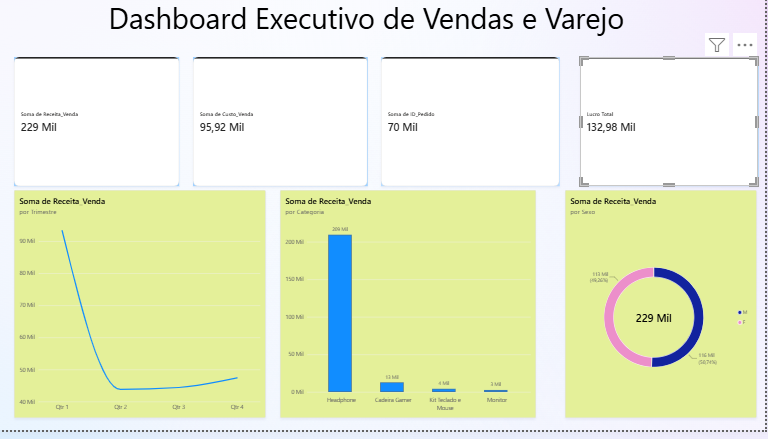

This screenshot's page, from the dashboard's own definition file:
{"tool":"powerbi","page":{"name":"Página 1","canvas":[1920,1080],"ordinal":0},"visuals":[{"type":"cardVisual","fields":{"Data":["Sum(banco pedidos.Receita_Venda)"]},"box":[43.3,146.7,413.3,323.3],"z":0},{"type":"columnChart","fields":{"Category":["banco categorias.Categoria"],"Y":["Sum(banco pedidos.Receita_Venda)"]},"box":[708,480,640,570],"z":1000},{"type":"lineChart","fields":{"Category":["banco pedidos.Data_Venda.Variation.Hierarquia de datas.Ano","banco pedidos.Data_Venda.Variation.Hierarquia de datas.Trimestre","banco pedidos.Data_Venda.Variation.Hierarquia de datas.Mês","banco pedidos.Data_Venda.Variation.Hierarquia de datas.Dia"],"Y":["Sum(banco pedidos.Receita_Venda)"]},"box":[43,480,629,570],"z":1001},{"type":"cardVisual","fields":{"Data":["Sum(banco pedidos.Custo_Venda)"]},"box":[490,146.7,436.7,323.3],"z":1002},{"type":"cardVisual","fields":{"Data":["Sum(banco pedidos.ID_Pedido)"]},"box":[960,146.7,446.7,323.3],"z":1003},{"type":"cardVisual","fields":{"Data":["banco categorias.Lucro Total"]},"box":[1456.7,146.7,446.7,323.3],"z":1004},{"type":"textbox","box":[100,0,1646.7,146.7],"z":1005},{"type":"donutChart","fields":{"Category":["banco clientes.Sexo"],"Y":["Sum(banco pedidos.Receita_Venda)"]},"box":[1419,480,479,570],"z":1006}]}

Visuals, with their boxes in screenshot pixels (x1, y1, x2, y2), scaled from the page's 1920x1080 canvas onto the 768x439 screenshot:
cardVisual - Sum(banco pedidos.Receita_Venda): rect(17, 60, 183, 191)
columnChart - banco categorias.Categoria x Sum(banco pedidos.Receita_Venda): rect(283, 195, 539, 427)
lineChart - banco pedidos.Data_Venda.Variation.Hierarquia de datas.Ano x banco pedidos.Data_Venda.Variation.Hierarquia de datas.Trimestre: rect(17, 195, 269, 427)
cardVisual - Sum(banco pedidos.Custo_Venda): rect(196, 60, 371, 191)
cardVisual - Sum(banco pedidos.ID_Pedido): rect(384, 60, 563, 191)
cardVisual - banco categorias.Lucro Total: rect(583, 60, 761, 191)
textbox: rect(40, 0, 699, 60)
donutChart - banco clientes.Sexo x Sum(banco pedidos.Receita_Venda): rect(568, 195, 759, 427)
